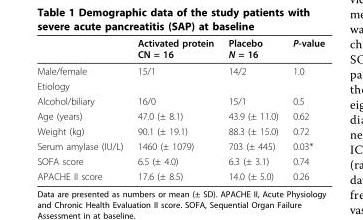table: (36, 36, 324, 181)
table column: (36, 36, 129, 181), (129, 36, 220, 181), (220, 36, 284, 181), (284, 36, 324, 181)
table column header: (36, 36, 324, 62)
table projected row header: (36, 78, 324, 93)
table row: (36, 36, 324, 62), (36, 62, 324, 78), (36, 78, 324, 93), (36, 93, 324, 108), (36, 108, 324, 123), (36, 123, 324, 138), (36, 138, 324, 153), (36, 153, 324, 168), (36, 168, 324, 181)
